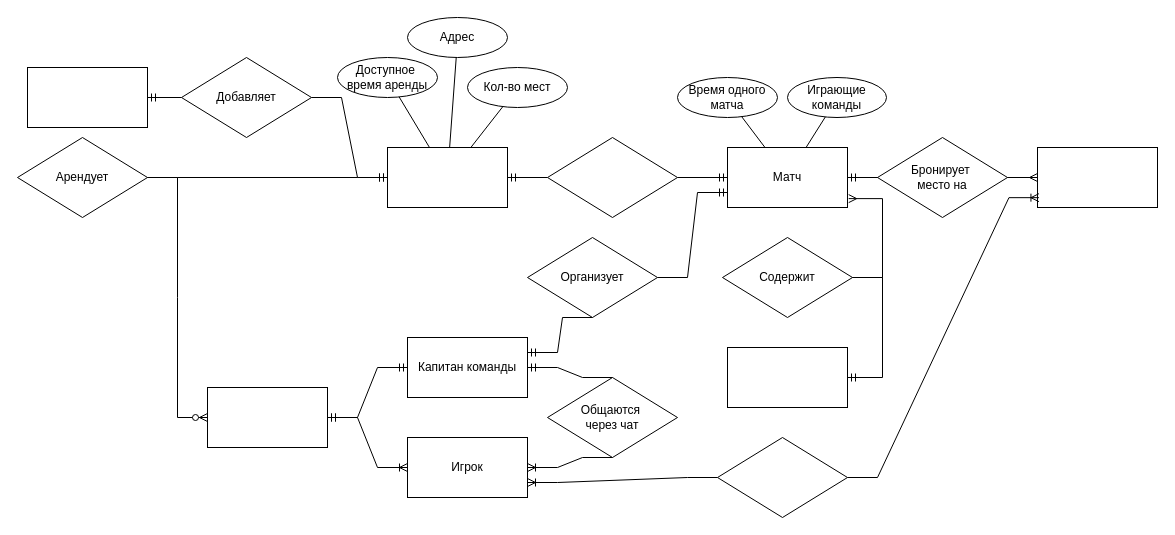
This 1175x535 diagram has some shape labels left out. Here are the shapes that lost their labels. From the top down, the centre of each, then its label:
At point (87, 97): "Администратор стадиона".
At point (447, 177): "Стадион".
At point (612, 177): "Происходит на".
At point (1097, 177): "Зритель".
At point (787, 377): "Список матчей".
At point (267, 417): "Команда".
At point (782, 477): "Имеет возможность стать".
